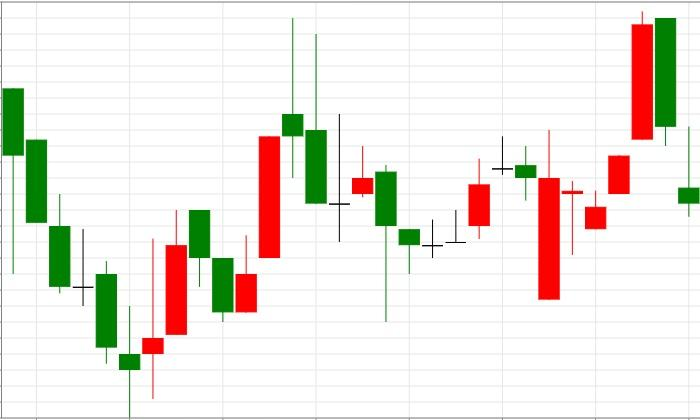three_white_soldiers_rise: (491, 11, 654, 301)
